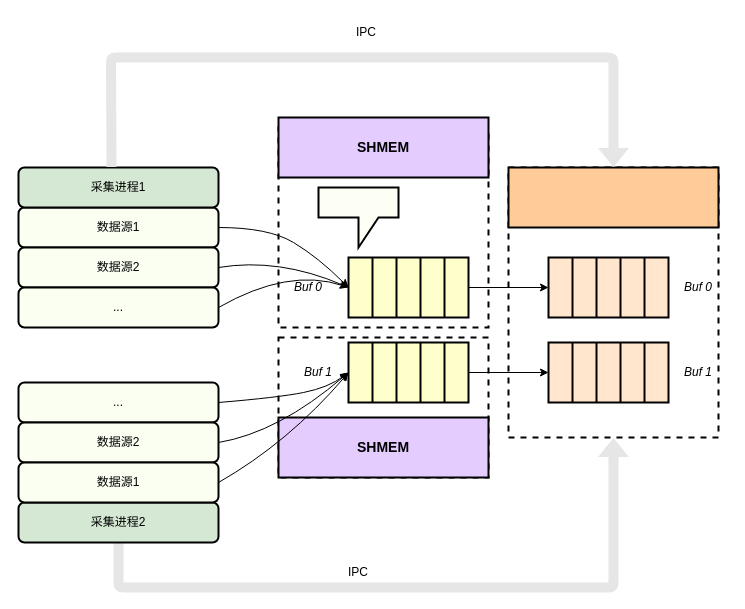
Some shapes in this 745 by 609 pixel diagram are drawn without their labels. The box of each missing label's shape, as (x1, y1, x2, y2) in pixels:
Buffer Page: (317, 186, 399, 248)
Tracing Service: (507, 166, 719, 228)
